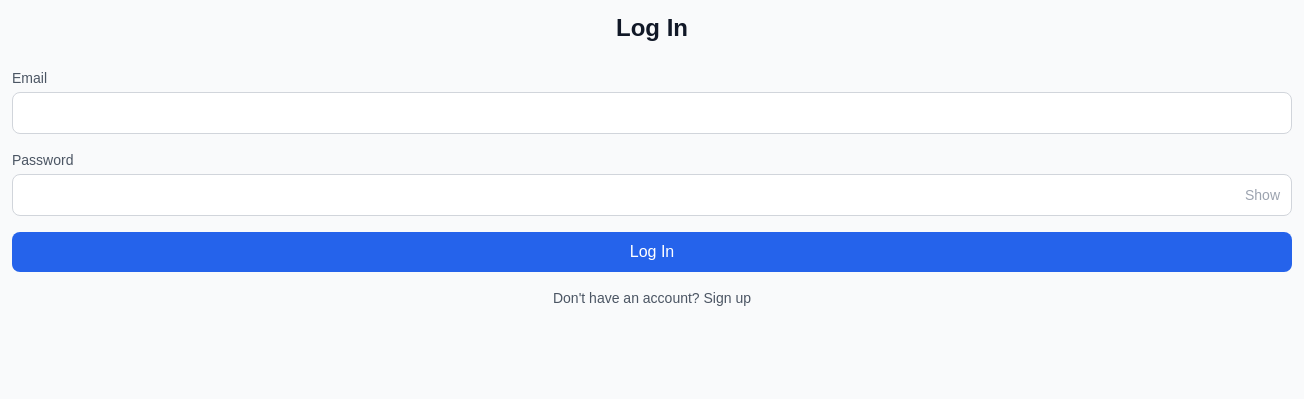
Test: LoginPage › shows a network error message when the BFF is unreachable
Step 1. Type "claimant@demo.com" into the field labelled "Email" → [652, 113], box [12,92,1292,134]
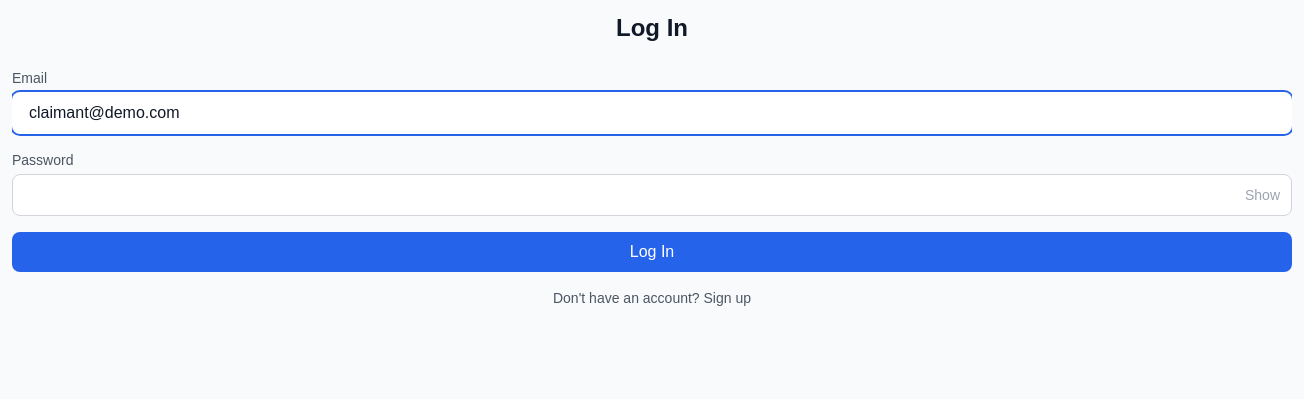
Step 2. Type "Claimant123!" into the password field labelled "Password" → [652, 195], box [12,174,1292,216]
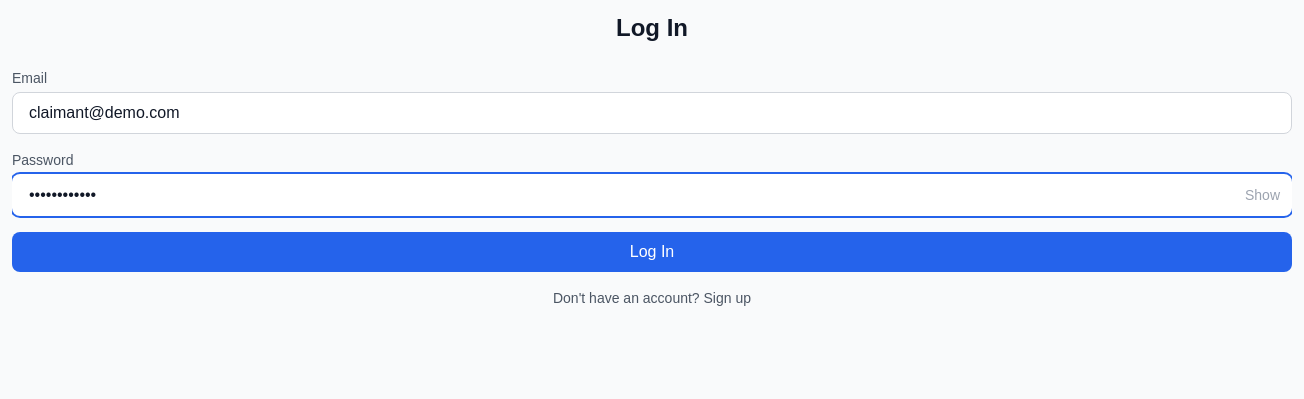
Step 3. Click the button "Log In" → [652, 252], box [12,232,1292,272]
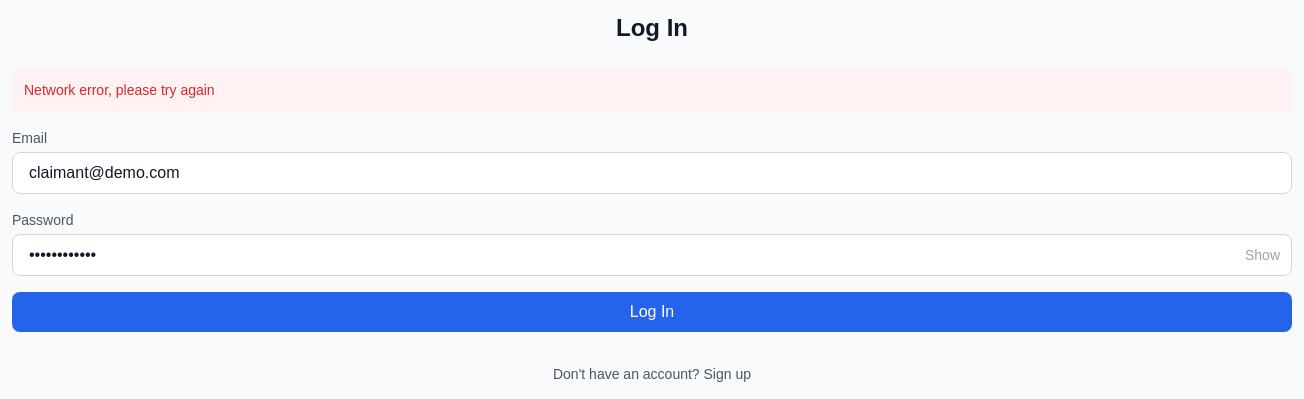
Check: the text "Network error, please try again" is shown, box [12,68,1292,112]
